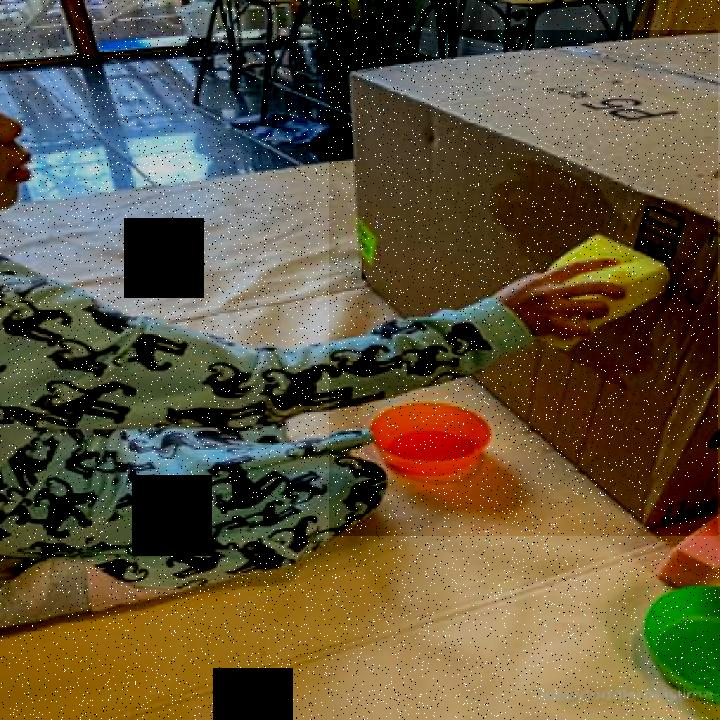box: (329, 30, 718, 536)
